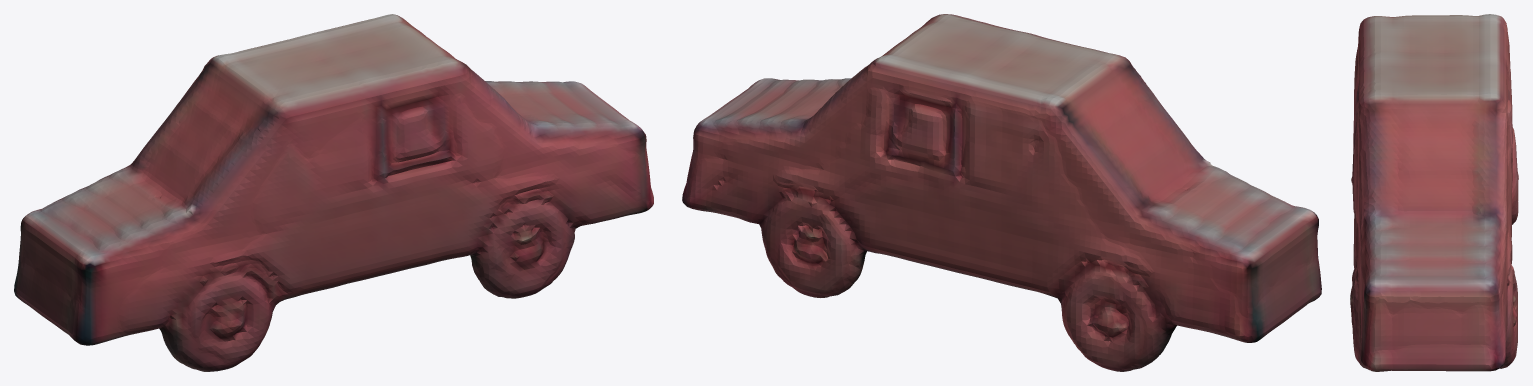
The picture shows the model from 3 angles, left to right: view 1: azimuth 30°, elevation 25°; view 2: azimuth 150°, elevation 25°; view 3: azimuth 270°, elevation 25°; orthographic projection. The views are drawn at different scales.
Parts seen in each view (by area): view 1: geometry_0; view 2: geometry_0; view 3: geometry_0.
Part boxes in pixels (left/top/right/bottom): geometry_0: left=14, top=14, right=653, bottom=371; geometry_0: left=682, top=14, right=1321, bottom=371; geometry_0: left=1350, top=14, right=1518, bottom=371.
Size of the model in its own units: 1 by 0.4136 by 0.2642.
